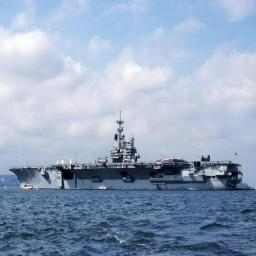Portanaves: (7, 100, 245, 196)
